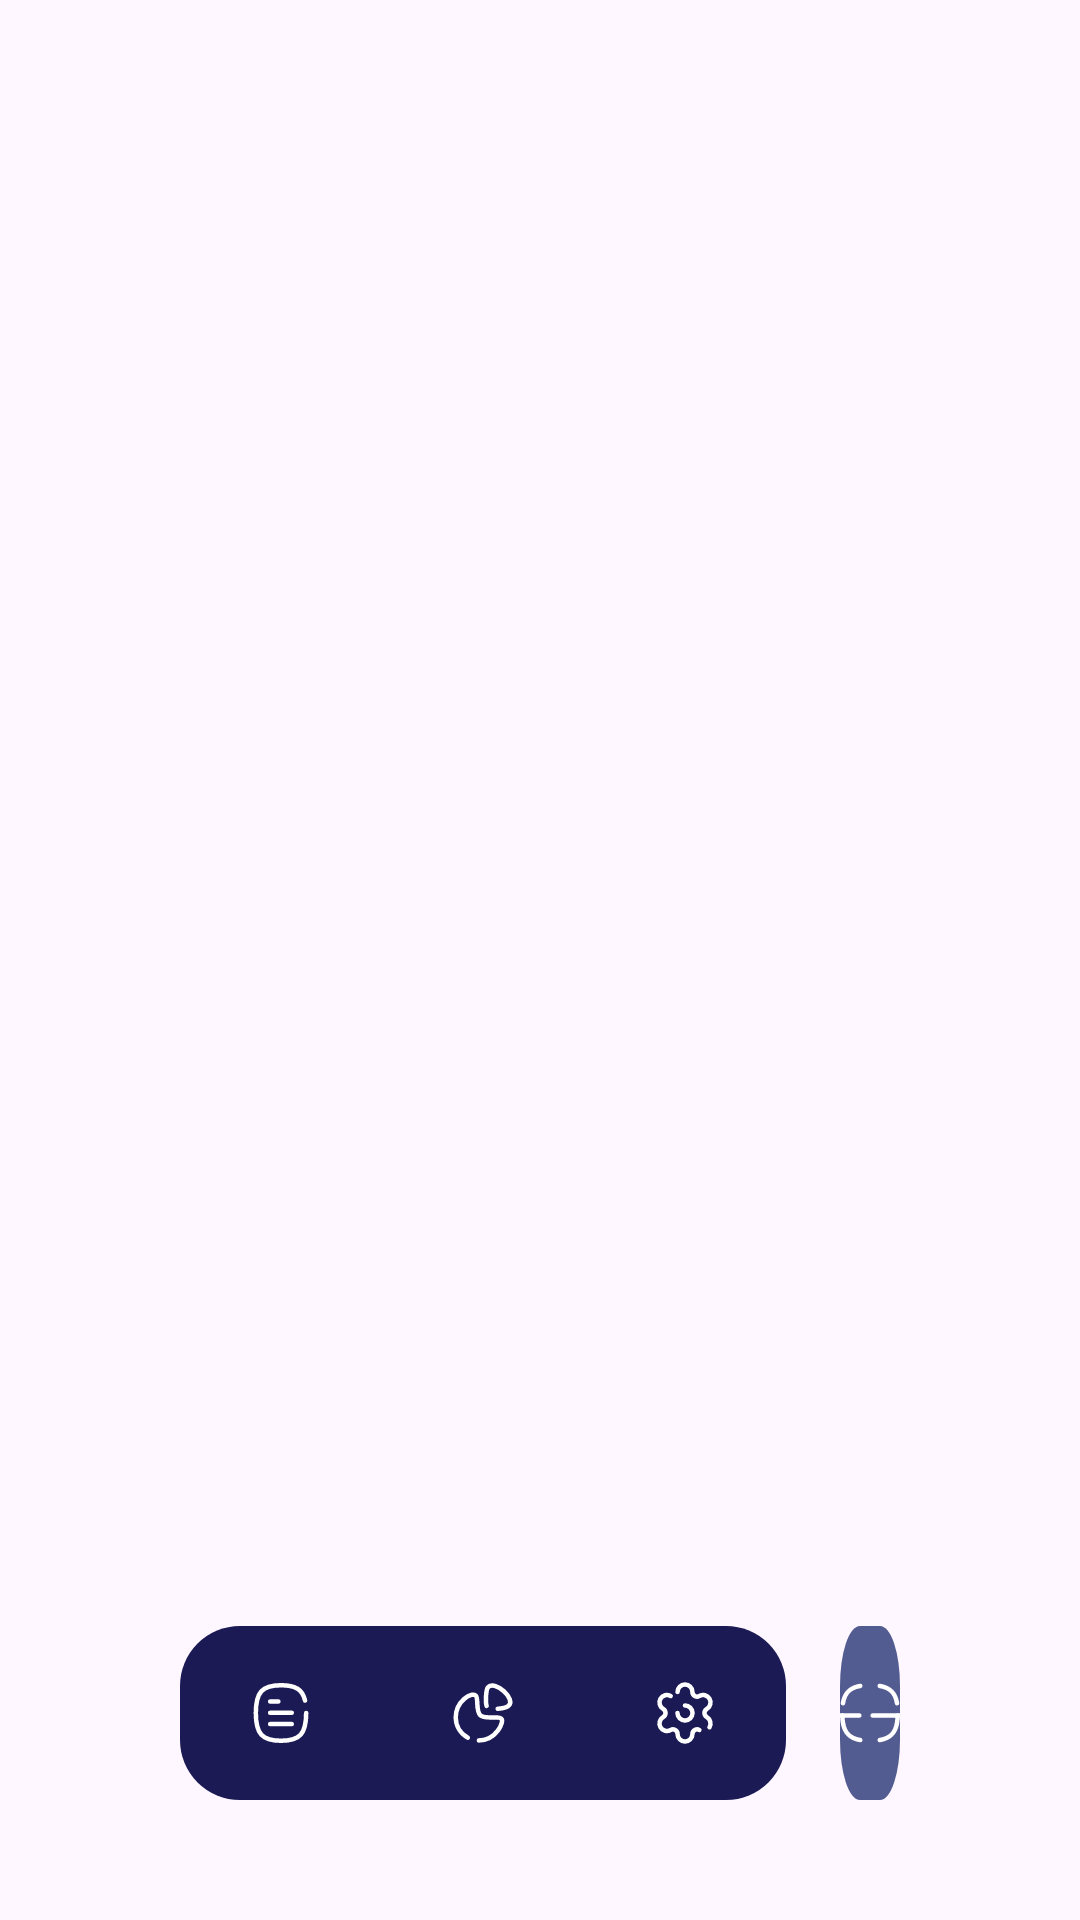

Icon click points for this 1080px×1920px phone screenshot, format point (x, y):
Grafik: point (483, 1713)
Pengaturan: point (685, 1713)
Pindai: point (870, 1713)
Transaksi: point (281, 1713)
